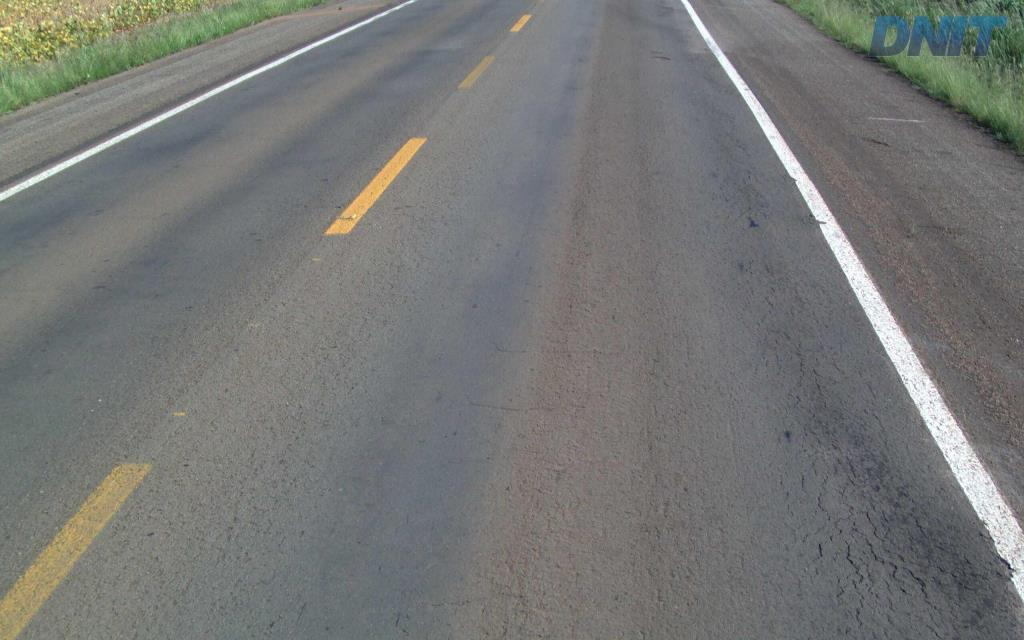crack: (900, 507, 997, 630)
